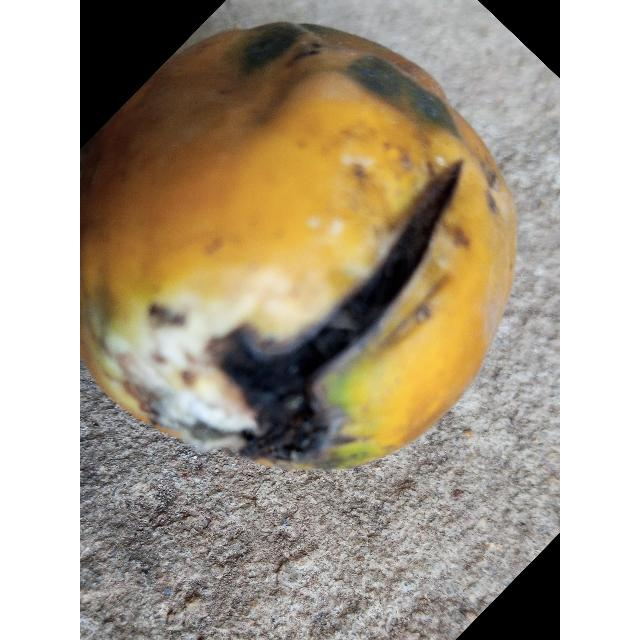damaged: (80, 23, 516, 469)
